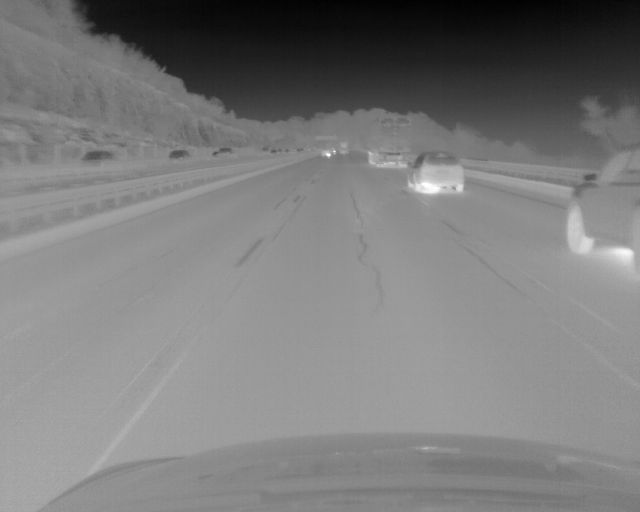car: (566, 147, 640, 270), (407, 151, 465, 195), (365, 115, 410, 169), (79, 151, 117, 164), (168, 150, 192, 161)
